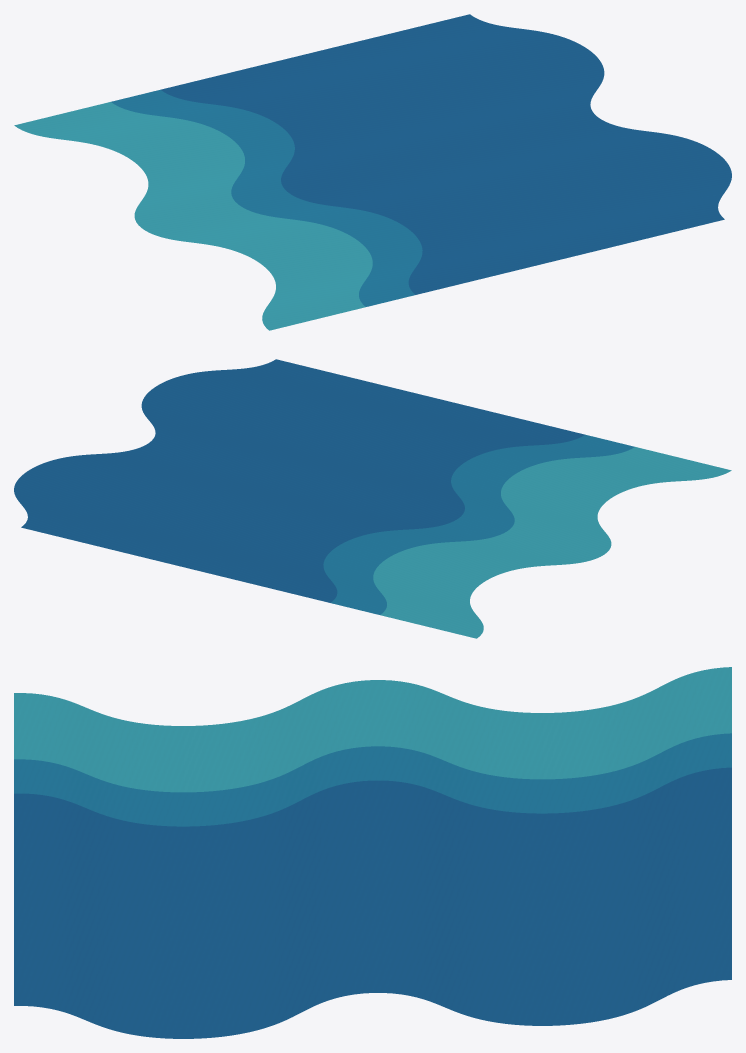
The model's file is lake.glb.
The picture shows the model from 3 angles, top to bottom: view 1: azimuth 30°, elevation 25°; view 2: azimuth 150°, elevation 25°; view 3: azimuth 270°, elevation 25°; orthographic projection. The views are drawn at different scales.
Parts seen in each view (by area): view 1: ValleyWater; view 2: ValleyWater; view 3: ValleyWater.
Part boxes in pixels (x1,y1,x2,y2): ValleyWater: (14, 14, 731, 330); ValleyWater: (14, 359, 731, 638); ValleyWater: (14, 667, 731, 1038).
Bounding box in the file's own units: 1858 × 64 × 1600.
Materials: 1 (1 with a texture image).
